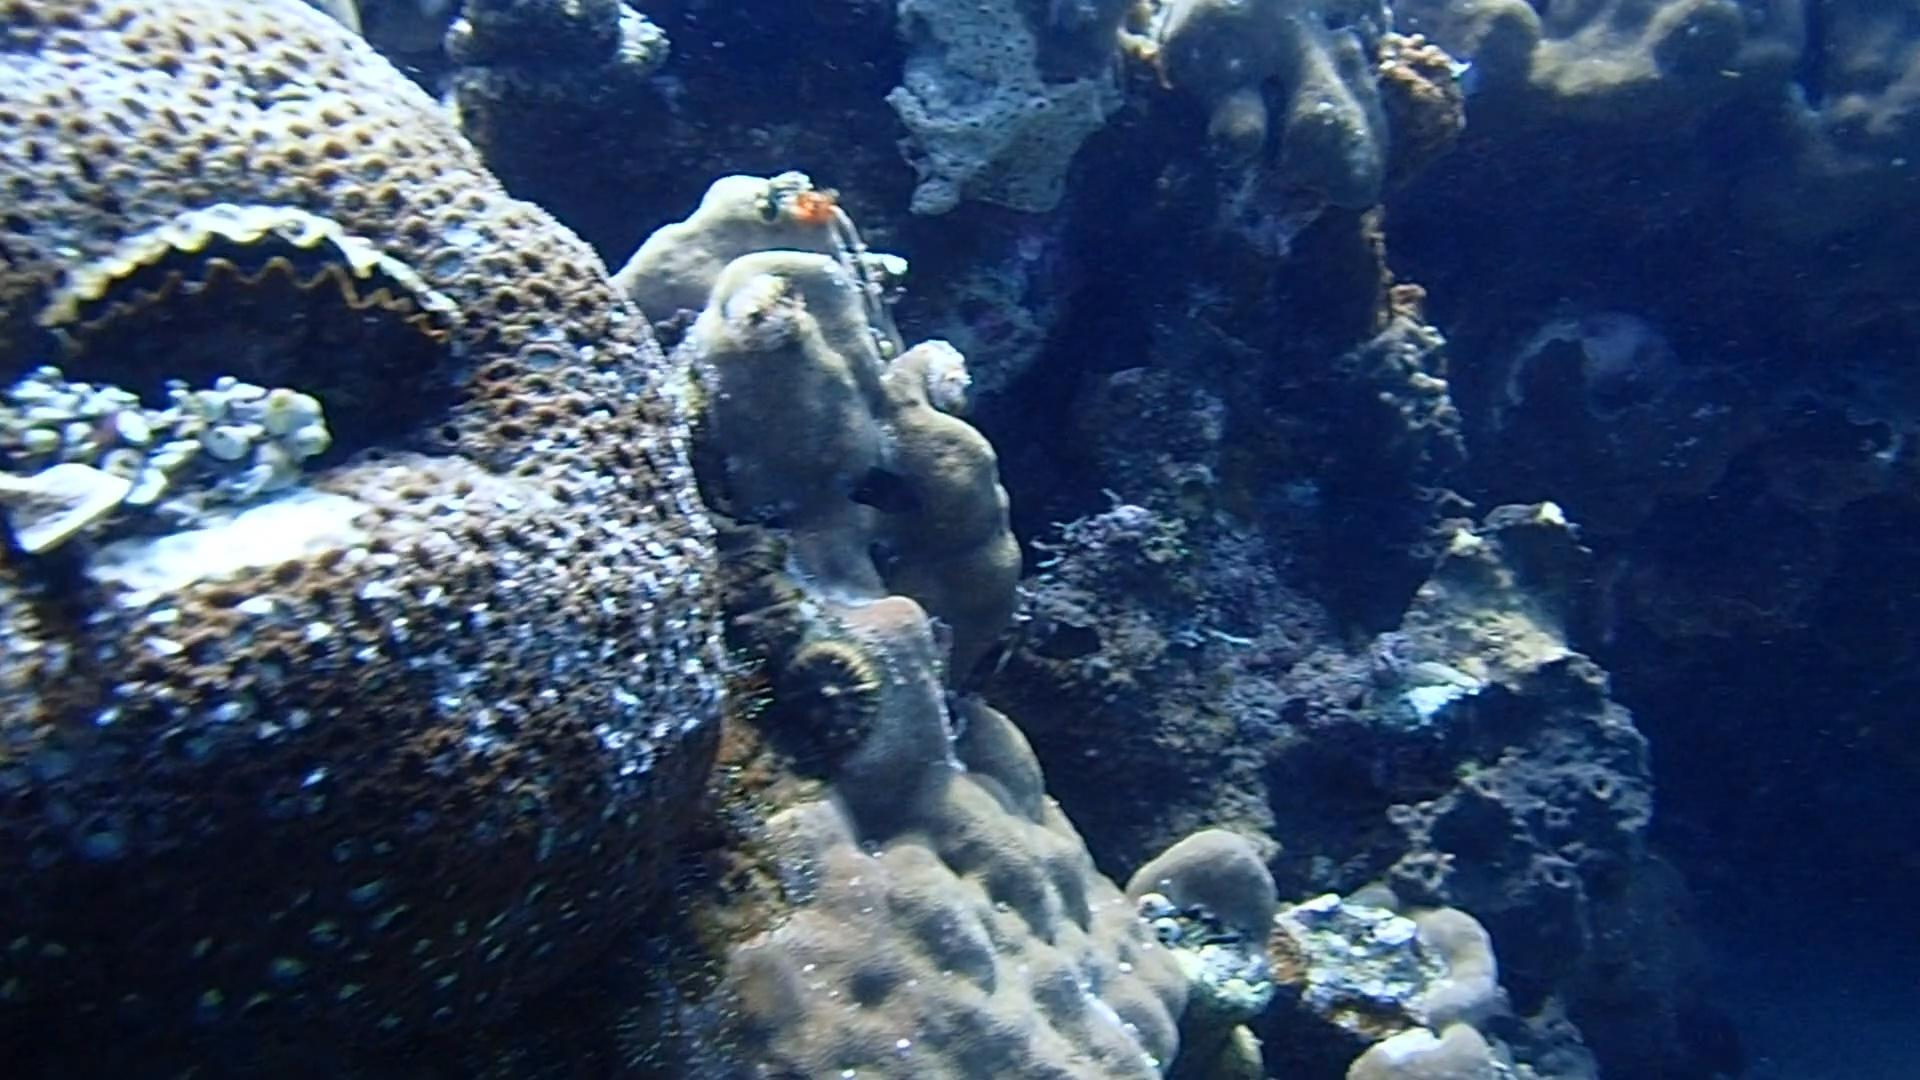Dark Fish: (837, 442, 934, 527), (1019, 597, 1116, 683)
